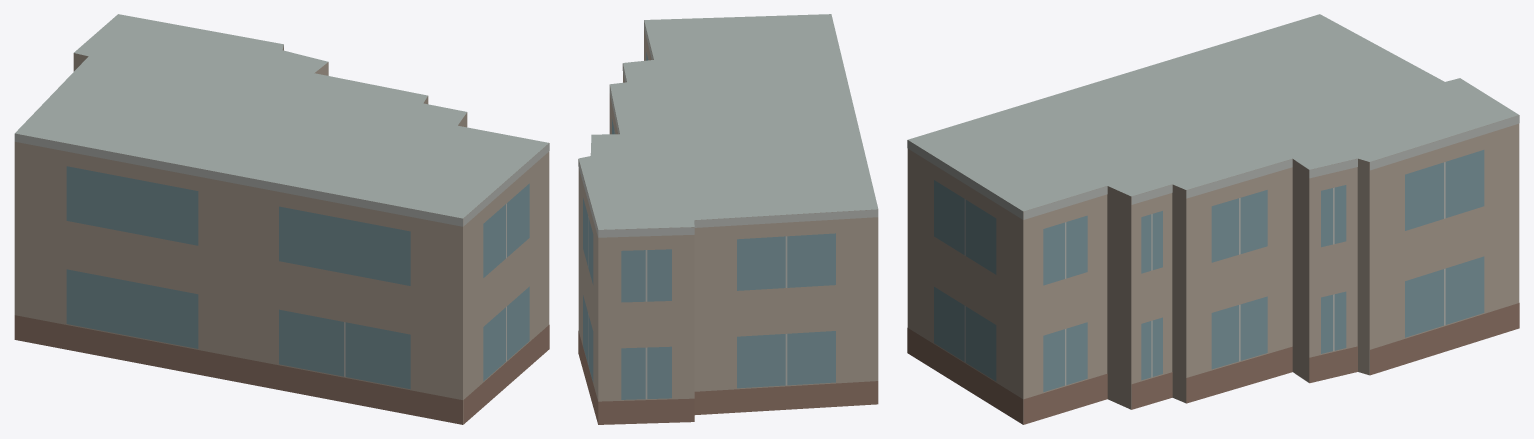
File: survey-upis-32658473.glb
3 renders of one model, left to right at view 1: azimuth 30°, elevation 25°; view 2: azimuth 150°, elevation 25°; view 3: azimuth 270°, elevation 25°, orthographic. The views are drawn at different scales.
Parts seen in each view (by area): view 1: survey-upis-32658473.tmp; view 2: survey-upis-32658473.tmp; view 3: survey-upis-32658473.tmp.
Part boxes in pixels (x1,y1,x2,y2): survey-upis-32658473.tmp: (14, 14, 549, 424); survey-upis-32658473.tmp: (578, 14, 878, 424); survey-upis-32658473.tmp: (907, 14, 1519, 424).
Bounding box in the file's own units: 12.12 × 6.1 × 15.87.
